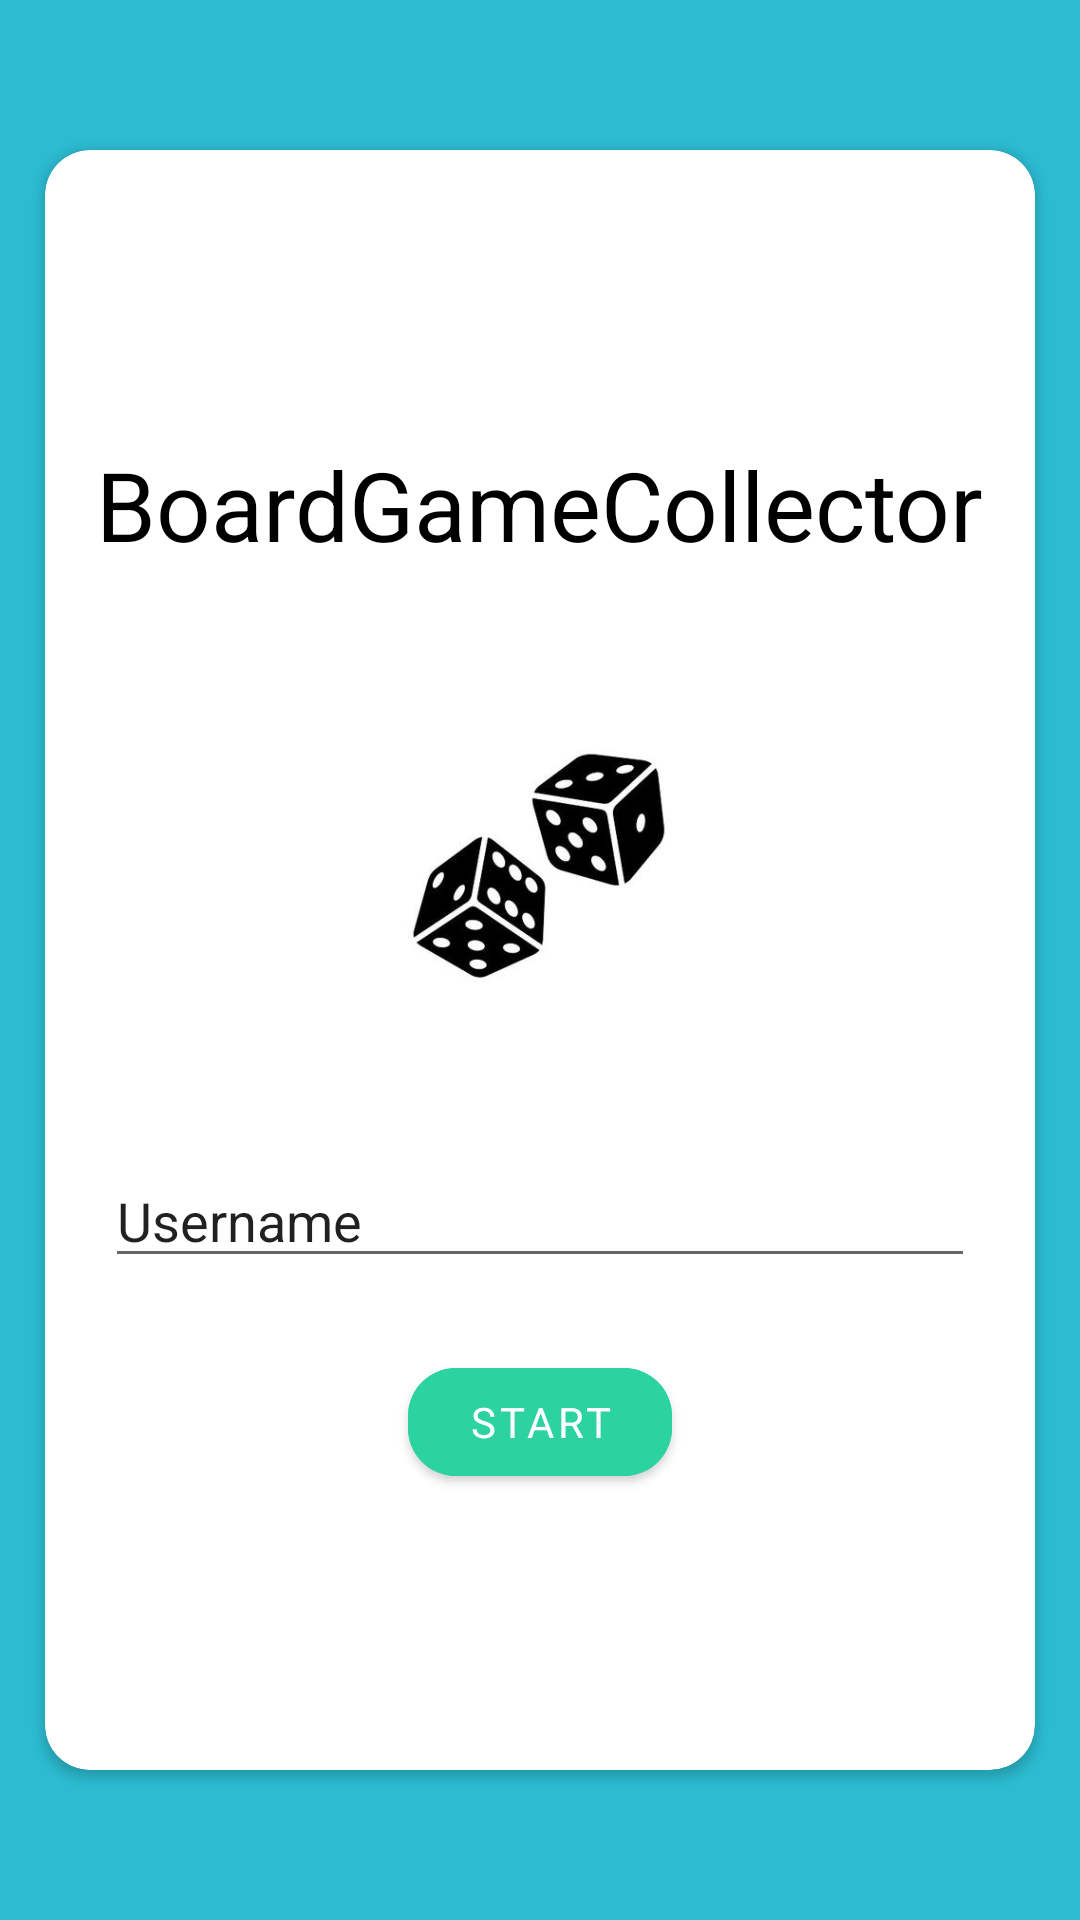

Point at icon controls on the screen. Image size 1080 × 1920, points as (x=x, y=y).
dice: (x=539, y=865)
